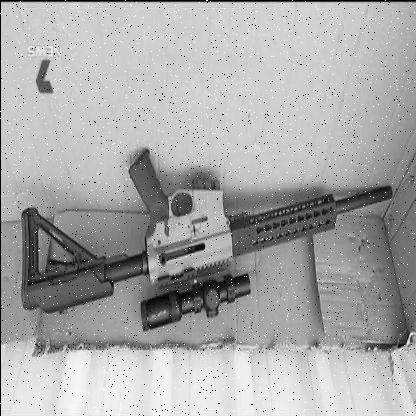rifle: (8, 118, 399, 360)
